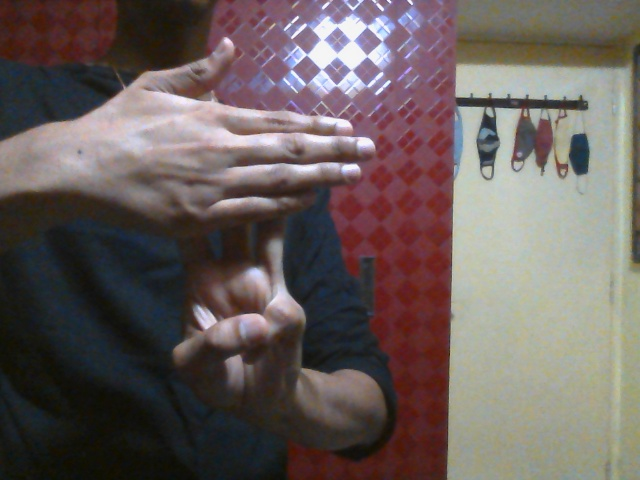M: (126, 35, 378, 403)
